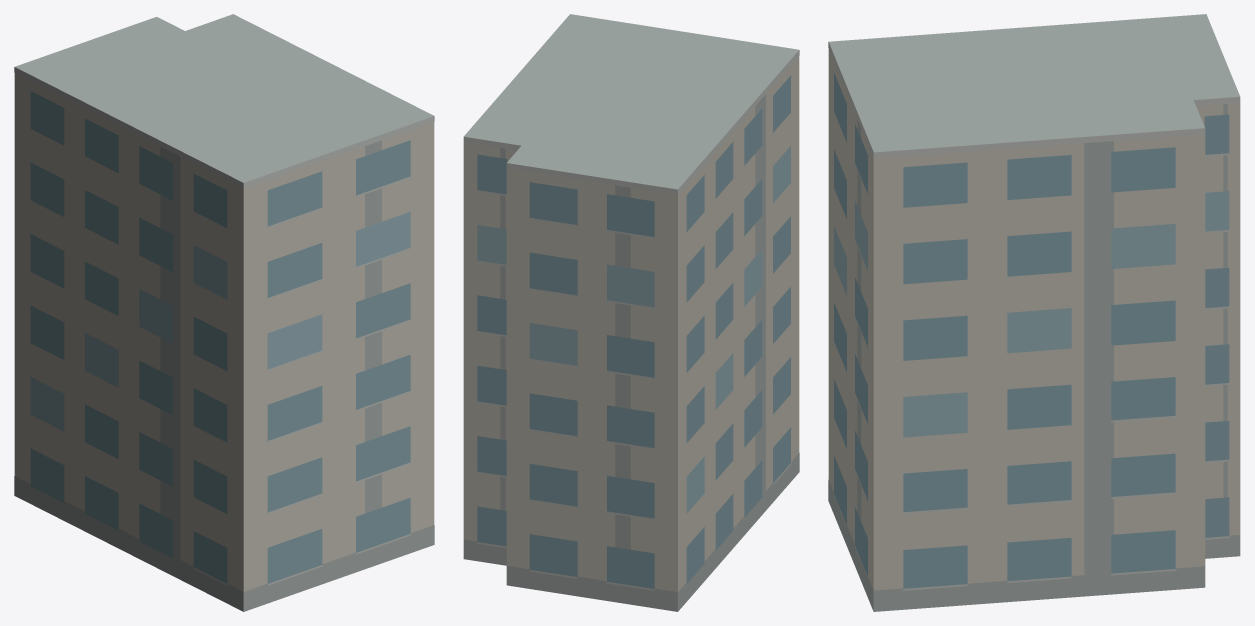
Rendered from residential-b79983cf-b810-4bfc-a011-971ee1d0f626.glb.
3 views of the same model, side by side, from view 1: azimuth 30°, elevation 25°; view 2: azimuth 150°, elevation 25°; view 3: azimuth 270°, elevation 25° (orthographic). The views are drawn at different scales.
Visible parts, largest first — view 1: residential-b79983cf-b810-4bfc-a011-971ee1d0f626.tmp; view 2: residential-b79983cf-b810-4bfc-a011-971ee1d0f626.tmp; view 3: residential-b79983cf-b810-4bfc-a011-971ee1d0f626.tmp.
Part boxes in pixels (x1,y1,x2,y2): residential-b79983cf-b810-4bfc-a011-971ee1d0f626.tmp: [14, 14, 434, 611]; residential-b79983cf-b810-4bfc-a011-971ee1d0f626.tmp: [463, 14, 799, 611]; residential-b79983cf-b810-4bfc-a011-971ee1d0f626.tmp: [828, 14, 1240, 611].
Size of the model in its own units: 11.64 by 18 by 14.63.
